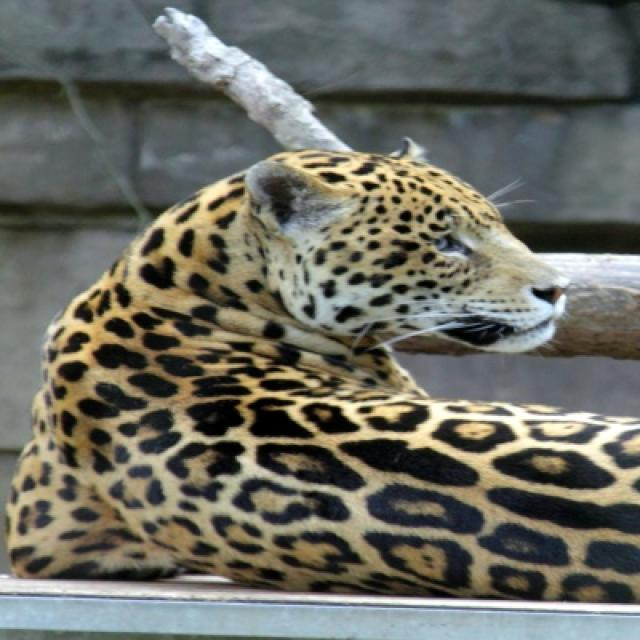Jaguar: (8, 144, 638, 603)
